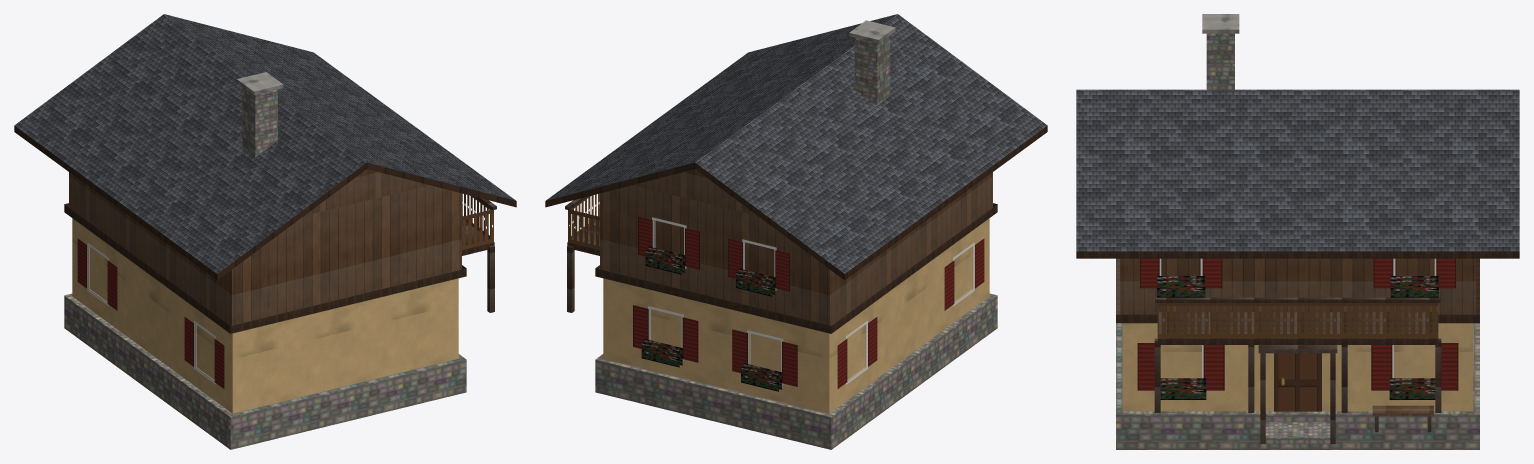
File: chalet1.fbx
3 views of the same model, side by side, from view 1: azimuth 30°, elevation 25°; view 2: azimuth 150°, elevation 25°; view 3: azimuth 270°, elevation 25° (orthographic). The views are drawn at different scales.
Visible parts, largest first — view 1: chalet1; view 2: chalet1; view 3: chalet1.
Part boxes in pixels (box(x1,y1,x2,y2)): chalet1: box(14, 14, 516, 449); chalet1: box(545, 14, 1047, 449); chalet1: box(1076, 14, 1519, 449).
Bounding box in the file's own units: 9.1 × 8.65 × 10.12.
13 materials, 12 textured.
